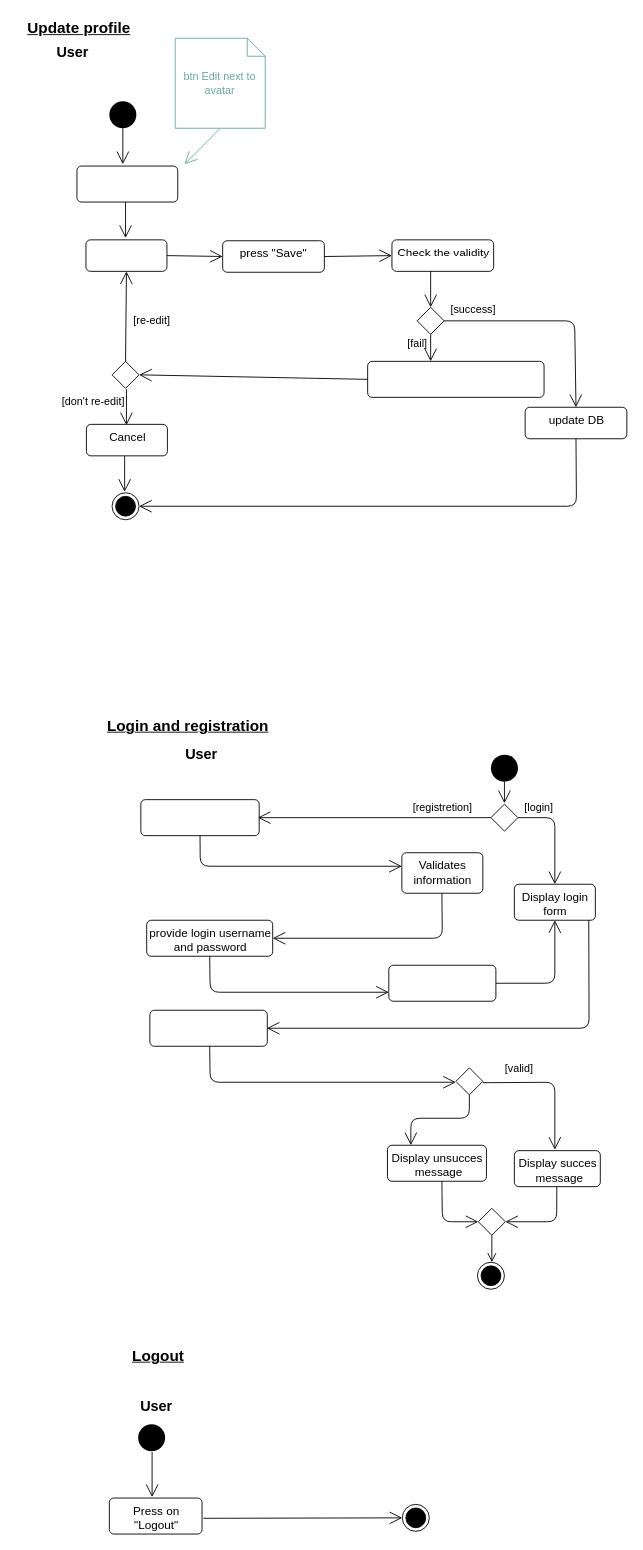
This 643x1550 diagram has some shape labels left out. Each missing label, with the centre of its shape:
Display error message and give re-edit option: the point at 455,378
Edit details: the point at 126,255
Enter username and password: the point at 208,1027
Fills the registration form: the point at 199,817
press "Edit Profile": the point at 127,183
Save username and password: the point at 442,982
